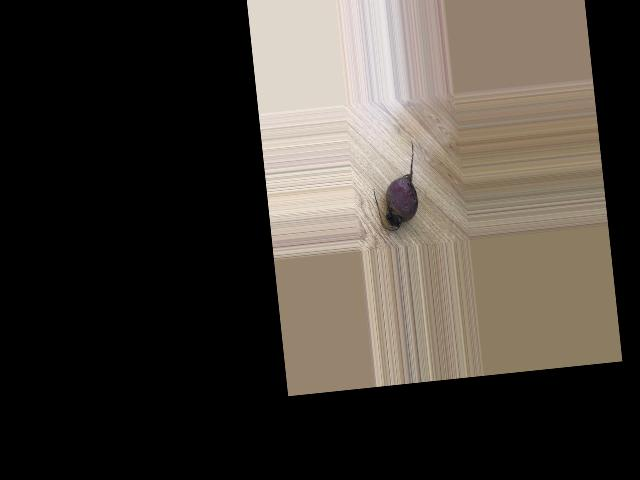beet: (368, 139, 422, 232)
